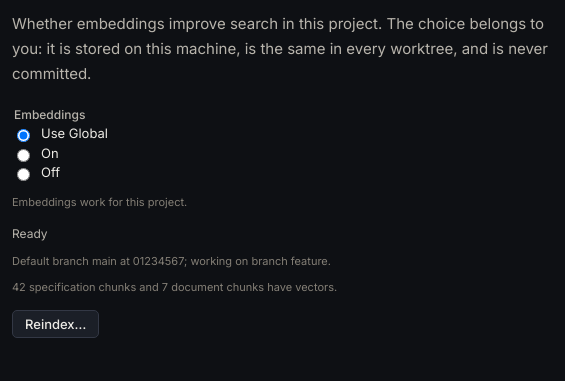
Test: Project Indexing section › SET-FR-DHIZ: a choice persists at once; a refused write restores the previous one
Expected: the radio button labelled "Use Global" is checked, x1=17 y1=129 x2=30 y2=142
Click the radio button labelled "Off" at [24, 174], box x1=17 y1=168 x2=30 y2=181
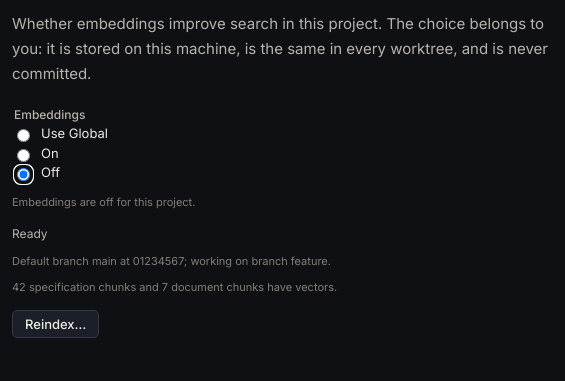
Click the radio button labelled "On" at [24, 155], box x1=17 y1=148 x2=30 y2=162
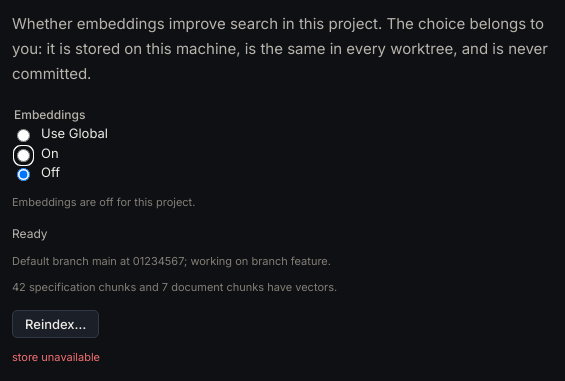
Now the radio button labelled "Off" is checked, box x1=17 y1=168 x2=30 y2=181
Now the message reads "store unavailable", box x1=12 y1=350 x2=100 y2=364
